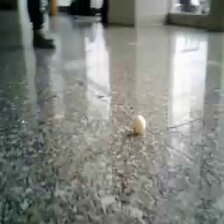w: (131, 114, 145, 134)
